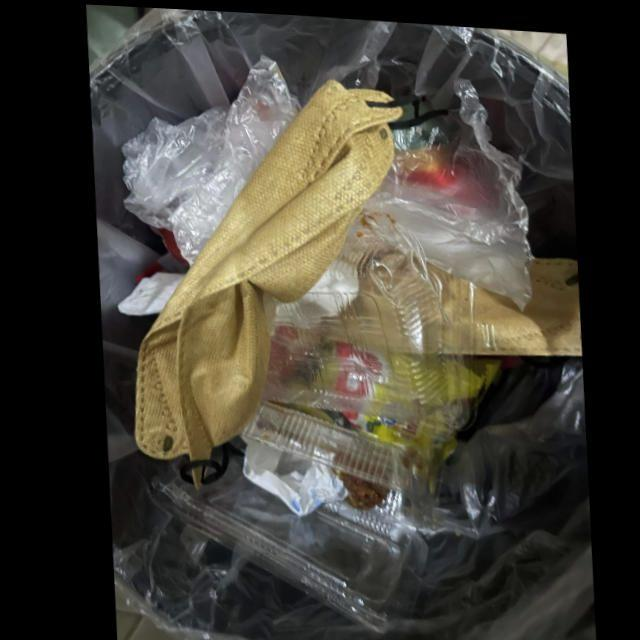plastic_bag: (119, 50, 301, 263)
plastic_container: (141, 401, 427, 629), (258, 208, 468, 425)
